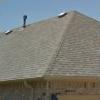Chimney: (19, 9, 27, 29)
